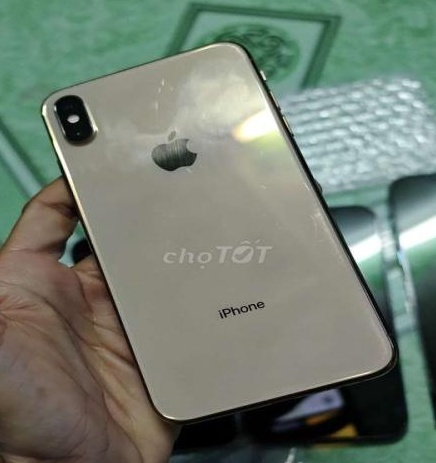scratch: (144, 70, 186, 99), (164, 161, 213, 184), (298, 204, 340, 230), (241, 175, 288, 198)
